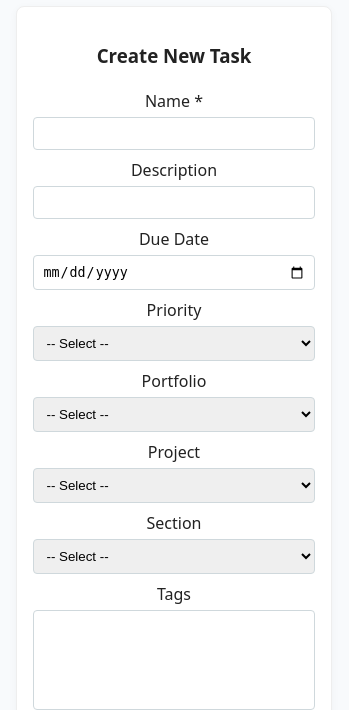
Test: TaskForm AI Suggestion › shows AI error if suggestion fails
This screenshot has width=349, height=710.
In the field labelled "Name *": (174, 133) [33, 116, 314, 150], type "Test AI fail"
(page scrolled)
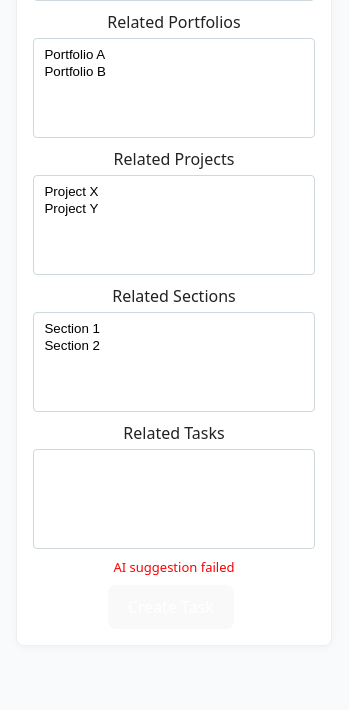
Check: the text "AI suggestion failed" is shown, box [114, 558, 234, 576]
